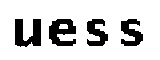e: (47, 15, 78, 50)
s: (118, 16, 146, 49), (84, 17, 109, 48)
u: (11, 16, 43, 51)
